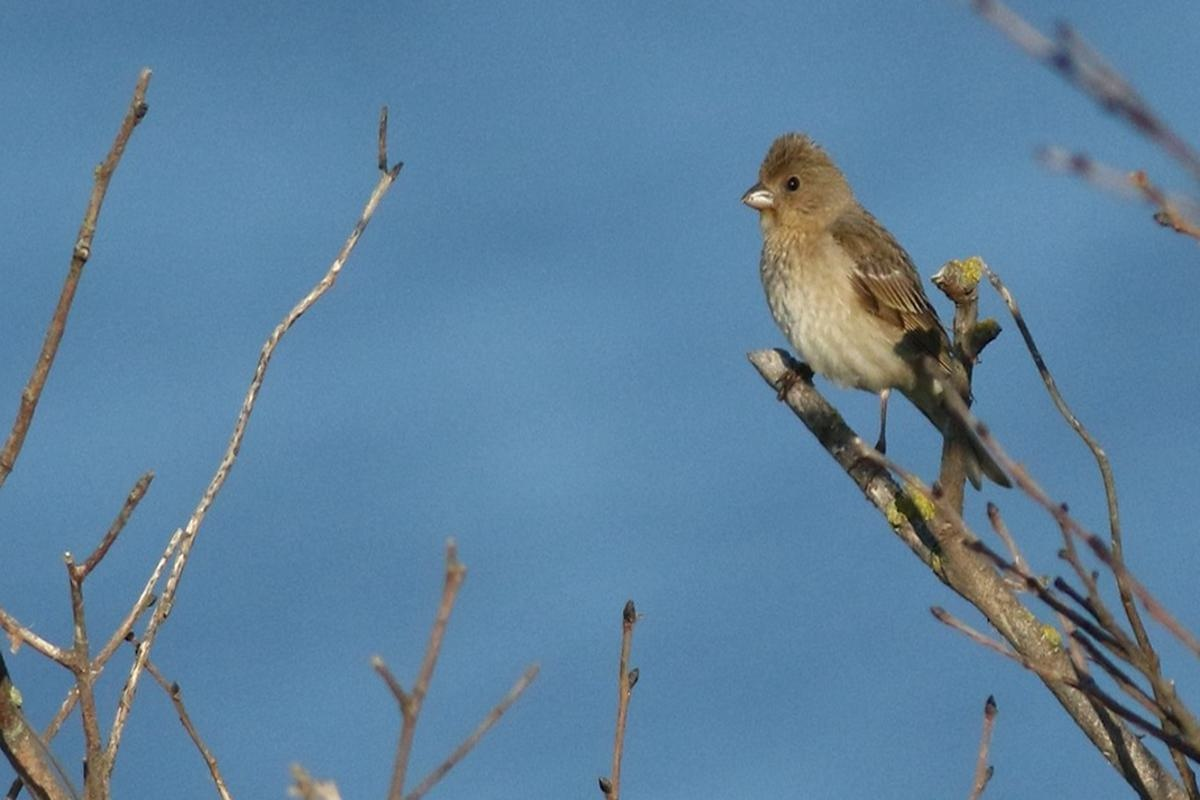rosefinch: (726, 95, 960, 418)
